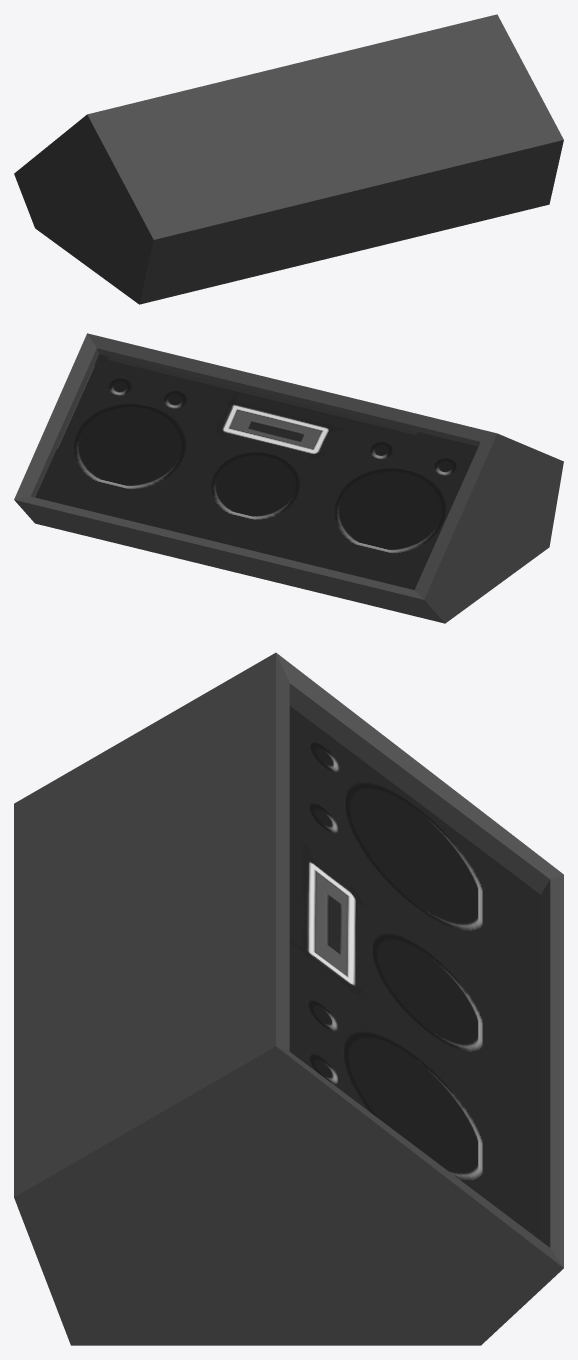
File: Ground_Speaker_1.fbx
3 views of the same model, one above another, from view 1: azimuth 30°, elevation 25°; view 2: azimuth 150°, elevation 25°; view 3: azimuth 270°, elevation 25° (orthographic). The views are drawn at different scales.
Visible parts, largest first — view 1: Ground_Speaker_1; view 2: Ground_Speaker_1; view 3: Ground_Speaker_1.
Part boxes in pixels (bbox=[...]): Ground_Speaker_1: bbox=[14, 14, 563, 304]; Ground_Speaker_1: bbox=[14, 333, 563, 623]; Ground_Speaker_1: bbox=[14, 652, 563, 1345].
Bounding box in the file's own units: 2.76 × 0.9777 × 1.63.
